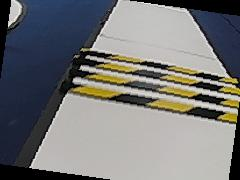bump: (66, 49, 237, 121)
